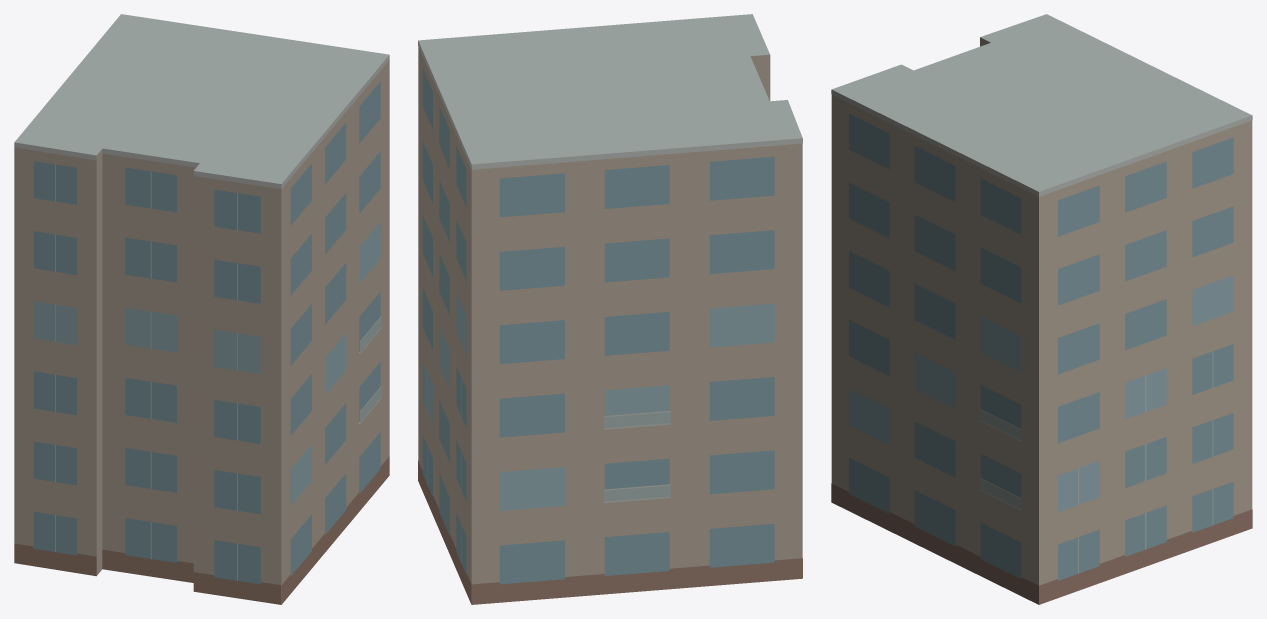
The model's file is survey-upis-32849107.glb.
3 views of the same model, side by side, from view 1: azimuth 30°, elevation 25°; view 2: azimuth 150°, elevation 25°; view 3: azimuth 270°, elevation 25° (orthographic). The views are drawn at different scales.
Parts seen in each view (by area): view 1: survey-upis-32849107.tmp; view 2: survey-upis-32849107.tmp; view 3: survey-upis-32849107.tmp.
Boxes of the visible parts, x1,y1,x2,y2 form: survey-upis-32849107.tmp: (14, 14, 389, 604); survey-upis-32849107.tmp: (418, 14, 802, 604); survey-upis-32849107.tmp: (831, 14, 1252, 604).
Bounding box in the file's own units: 18.76 × 20.3 × 18.76.
